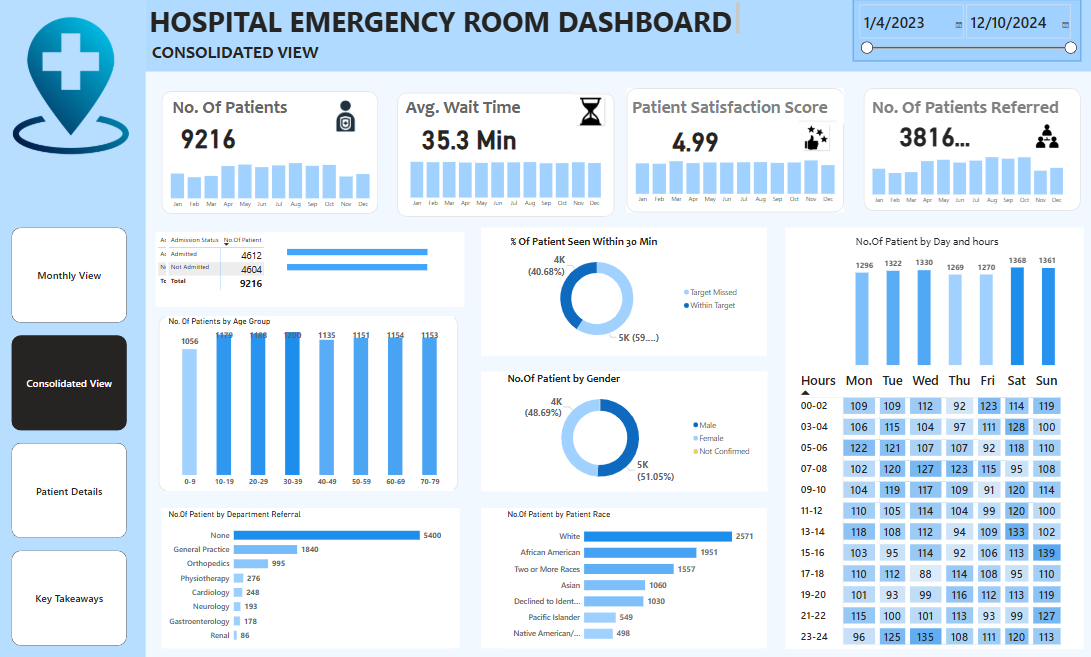

Layout of this report page (visuals, bound fields, positions):
{"tool":"powerbi","page":{"name":"Consolidated View","canvas":[2300,1400],"ordinal":1},"visuals":[{"type":"shape","box":[305.4,0,1989.9,160.6],"z":0},{"type":"shape","box":[0,0,310,1399],"z":1000},{"type":"textbox","box":[1652.2,487.7,625.9,884.3],"z":2000},{"type":"textbox","box":[342.1,1077.2,625.9,294.8],"z":3000},{"type":"shape","box":[1319.2,195.2,456.5,261.3],"z":4000},{"type":"shape","box":[342.1,200.2,454.9,258.4],"z":5000},{"type":"textbox","box":[1015.3,487.7,600,270],"z":6000},{"type":"textbox","box":[305.4,91.3,384.1,69.3],"z":7000},{"type":"card","fields":{"Values":["Hospital ER_Data.No.Of Patient"]},"box":[368.4,261.3,144.8,66.1],"z":8000},{"type":"slicer","fields":{"Values":["Date table.Date"]},"box":[1794.6,9.4,478.6,129.1],"z":9000},{"type":"columnChart","fields":{"Y":["Hospital ER_Data.No.Of Patient"],"Category":["Date table.Month Name"]},"box":[343.2,333.7,456.5,122.8],"z":10000},{"type":"shape","box":[837.5,204.7,456.5,261.3],"z":11000},{"type":"card","fields":{"Values":["Hospital ER_Data.Avg Wait Time"]},"box":[865.8,258.2,245.6,78.7],"z":12000},{"type":"textbox","box":[850.1,207.8,261.3,63],"z":13000},{"type":"columnChart","fields":{"Y":["Avg(Hospital ER_Data.Patient Waittime)"],"Category":["Date table.Month Name"]},"box":[848.3,327.6,437.9,127.6],"z":14000},{"type":"shape","box":[1816.7,195.2,456.5,258.2],"z":15000},{"type":"textbox","box":[1325.5,207.8,450.2,63],"z":16000},{"type":"card","fields":{"Values":["Hospital ER_Data.Satisfaction Score"]},"box":[1341.4,262.1,244.8,79.3],"z":17000},{"type":"columnChart","fields":{"Y":["Hospital ER_Data.Satisfaction Score"],"Category":["Date table.Month Name"]},"box":[1319.2,324.3,456.5,122.8],"z":18000},{"type":"textbox","box":[1830.5,207.4,425.8,61.9],"z":19000},{"type":"card","fields":{"Values":["Hospital ER_Data.No. Of Patients Referred"]},"box":[1879.3,258.6,172.4,65.5],"z":20000},{"type":"columnChart","fields":{"Y":["Hospital ER_Data.No. Of Patients Referred"],"Category":["Date table.Month Name"]},"box":[1817.2,324.1,437.9,124.1],"z":21000},{"type":"shape","box":[338.4,673.3,629.6,367.6],"z":22000},{"type":"pivotTable","fields":{"Rows":["Hospital ER_Data.Waittime Interval"],"Columns":["Date table.Day Name"],"Values":["Hospital ER_Data.No.Of Patient"]},"box":[1675.9,782.8,575.9,586.2],"z":23000},{"type":"pivotTable","fields":{"Rows":["Hospital ER_Data.Admission Status"],"Values":["Hospital ER_Data.No.Of Patient"]},"box":[330.6,497.5,626.6,157.4],"z":24000},{"type":"clusteredColumnChart","title":"No. Of Patients by Age Group","fields":{"Category":["Hospital ER_Data.Age Group"],"Y":["Hospital ER_Data.No.Of Patient"]},"box":[353,673.3,604.1,367.6],"z":25000},{"type":"clusteredBarChart","fields":{"Category":["Hospital ER_Data.Department Referral"],"Y":["Hospital ER_Data.No.Of Patient"]},"box":[353,1080.9,582.3,291.1],"z":26000},{"type":"donutChart","title":"% Of Patient Seen Within 30 Min","fields":{"Category":["Hospital ER_Data.Waittime Status"],"Y":["Hospital ER_Data.No.Of Patient"]},"box":[1070.5,503.8,494.3,239.3],"z":27000},{"type":"pivotTable","fields":{"Rows":["Hospital ER_Data.Admission Status"],"Values":["Hospital ER_Data.No.Of Patient"]},"box":[353.2,498,626.6,157.4],"z":28000},{"type":"textbox","box":[1013.8,790.3,601.4,251.9],"z":29000},{"type":"donutChart","title":"No.Of Patient by Gender","fields":{"Category":["Hospital ER_Data.Patient Gender"],"Y":["Hospital ER_Data.No.Of Patient"]},"box":[1062.7,789.7,527.7,251.1],"z":30000},{"type":"textbox","box":[1015.3,1077.2,600.5,294.8],"z":31000},{"type":"clusteredBarChart","fields":{"Category":["Hospital ER_Data.Patient Race"],"Y":["Hospital ER_Data.No.Of Patient"]},"box":[1062.7,1080.9,527.7,291.1],"z":32000},{"type":"columnChart","title":"No.Of Patient by Day and hours","fields":{"Y":["Hospital ER_Data.No.Of Patient"],"Category":["Date table.Day Name"]},"box":[1793.1,503.4,431,279.3],"z":33000},{"type":"image","box":[3.1,0,299.1,381],"z":34000},{"type":"pageNavigator","box":[28.3,488,242.4,881.6],"z":35000},{"type":"textbox","box":[352.6,207.8,292.8,63],"z":36000},{"type":"textbox","box":[302.3,9.4,1259.4,81.9],"z":37000},{"type":"barChart","fields":{"Category":["Hospital ER_Data.Admission Status"],"Y":["Hospital ER_Data.No.Of Patient"]},"box":[601.4,503.8,330.6,97.6],"z":38000},{"type":"image","box":[689.5,207.8,78.7,88.2],"z":39000},{"type":"image","box":[1199.6,195.2,85,91.3],"z":40000},{"type":"image","box":[1675,251.9,91.3,88.2],"z":41000},{"type":"image","box":[2150.4,258.2,103.9,75.6],"z":42000}]}

Visuals, with their boxes in screenshot pixels (x1, y1, x2, y2), scaled from the page's 2300x1400 canvas onto the 1091x657 screenshot:
shape: (145,0,1089,75)
shape: (0,0,147,656)
textbox: (784,229,1081,644)
textbox: (162,506,459,644)
shape: (626,92,842,214)
shape: (162,94,378,215)
textbox: (482,229,766,356)
textbox: (145,43,327,75)
card - Hospital ER_Data.No.Of Patient: (175,123,243,154)
slicer - Date table.Date: (851,4,1078,65)
columnChart - Hospital ER_Data.No.Of Patient x Date table.Month Name: (163,157,379,214)
shape: (397,96,614,219)
card - Hospital ER_Data.Avg Wait Time: (411,121,527,158)
textbox: (403,98,527,127)
columnChart - Avg(Hospital ER_Data.Patient Waittime) x Date table.Month Name: (402,154,610,214)
shape: (862,92,1078,213)
textbox: (629,98,842,127)
card - Hospital ER_Data.Satisfaction Score: (636,123,752,160)
columnChart - Hospital ER_Data.Satisfaction Score x Date table.Month Name: (626,152,842,210)
textbox: (868,97,1070,126)
card - Hospital ER_Data.No. Of Patients Referred: (891,121,973,152)
columnChart - Hospital ER_Data.No. Of Patients Referred x Date table.Month Name: (862,152,1070,210)
shape: (161,316,459,488)
pivotTable - Hospital ER_Data.Waittime Interval x Date table.Day Name: (795,367,1068,642)
pivotTable - Hospital ER_Data.Admission Status x Hospital ER_Data.No.Of Patient: (157,233,454,307)
"No. Of Patients by Age Group" clusteredColumnChart: (167,316,454,488)
clusteredBarChart - Hospital ER_Data.Department Referral x Hospital ER_Data.No.Of Patient: (167,507,444,644)
"% Of Patient Seen Within 30 Min" donutChart: (508,236,742,349)
pivotTable - Hospital ER_Data.Admission Status x Hospital ER_Data.No.Of Patient: (168,234,465,308)
textbox: (481,371,766,489)
"No.Of Patient by Gender" donutChart: (504,371,754,488)
textbox: (482,506,766,644)
clusteredBarChart - Hospital ER_Data.Patient Race x Hospital ER_Data.No.Of Patient: (504,507,754,644)
"No.Of Patient by Day and hours" columnChart: (851,236,1055,367)
image: (1,0,143,179)
pageNavigator: (13,229,128,643)
textbox: (167,98,306,127)
textbox: (143,4,741,43)
barChart - Hospital ER_Data.Admission Status x Hospital ER_Data.No.Of Patient: (285,236,442,282)
image: (327,98,364,139)
image: (569,92,609,134)
image: (795,118,838,160)
image: (1020,121,1069,157)
